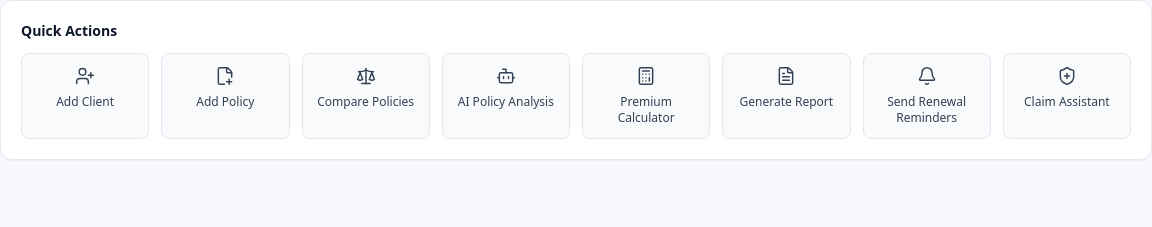
Scenario: QuickActionsBar › shows a prerequisite message for Compare Policies with <2 policies (R14.4)
The width and height of the screenshot is (1152, 227).
Click the button "Compare Policies": point(366, 96) [302,53,430,139]
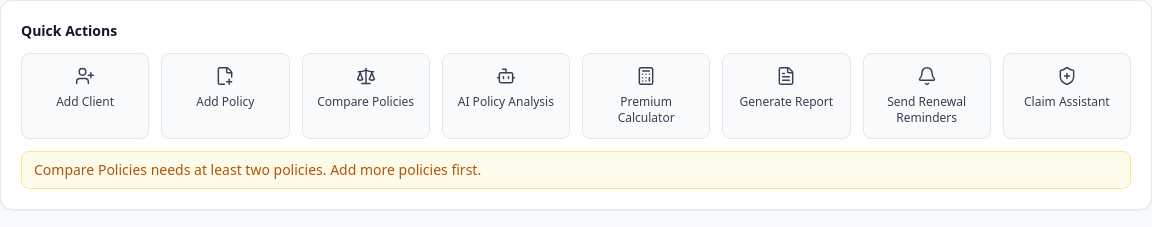
Check: the message shows "at least two policies", box [34,160,481,179]
